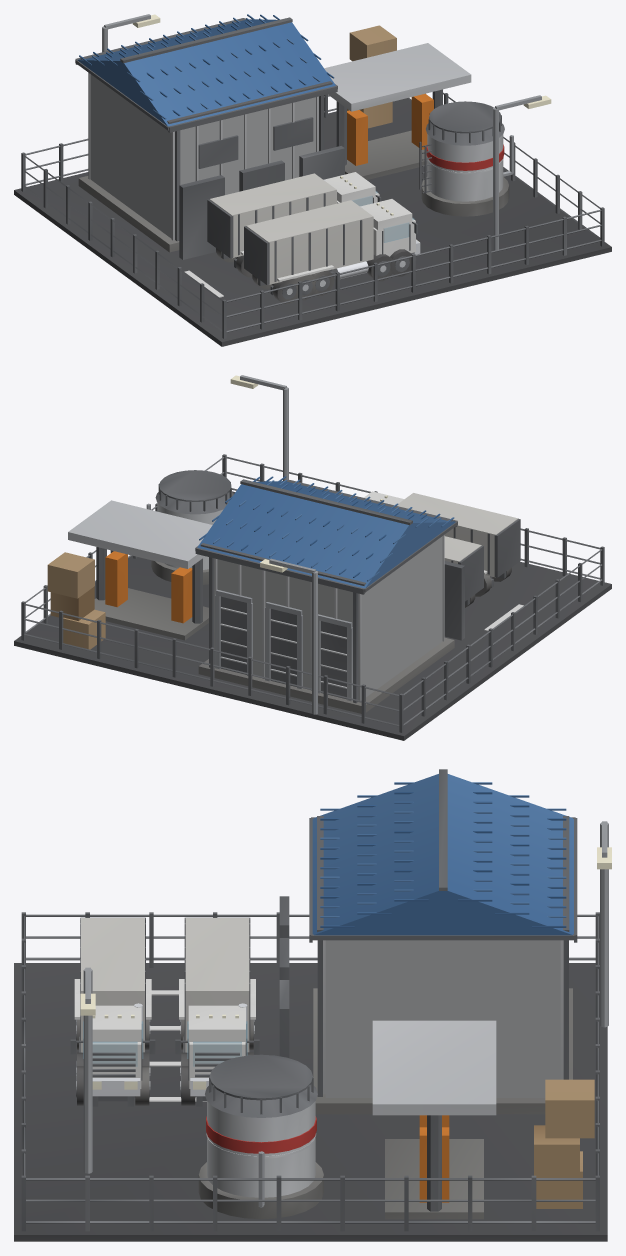
The model's file is Fleet_P2.fbx.
The picture shows the model from 3 angles, top to bottom: view 1: azimuth 30°, elevation 25°; view 2: azimuth 150°, elevation 25°; view 3: azimuth 270°, elevation 25°; orthographic projection. The views are drawn at different scales.
Parts seen in each view (by area): view 1: Fleet.Garage, Fleet.Yard, Fleet.Parked1, Fleet.FuelIsland, Fleet.Fence, Fleet.FuelTank, Fleet.Parked0, Fleet.Doors, Fleet.Crates, Fleet.Lamp1, Fleet.Lamp0; view 2: Fleet.Garage, Fleet.Yard, Fleet.FuelIsland, Fleet.Fence, Fleet.Parked1, Fleet.Crates, Fleet.FuelTank, Fleet.Doors, Fleet.Parked0, Fleet.Lamp0, Fleet.Lamp1; view 3: Fleet.Garage, Fleet.Yard, Fleet.FuelIsland, Fleet.FuelTank, Fleet.Fence, Fleet.Parked1, Fleet.Parked0, Fleet.Crates, Fleet.Lamp1, Fleet.Lamp0, Fleet.Doors, Fleet.Bays.
Part boxes in pixels (box(x1,y1,x2,y2)): Fleet.Garage: box(75, 14, 337, 252); Fleet.Yard: box(14, 98, 611, 346); Fleet.Parked1: box(244, 199, 420, 303); Fleet.FuelIsland: box(324, 43, 471, 179); Fleet.Fence: box(21, 92, 604, 338); Fleet.FuelTank: box(419, 101, 513, 216); Fleet.Parked0: box(207, 172, 381, 277); Fleet.Doors: box(179, 146, 344, 259); Fleet.Crates: box(347, 25, 396, 128); Fleet.Lamp1: box(493, 95, 551, 250); Fleet.Lamp0: box(102, 14, 160, 52); Fleet.Garage: box(195, 476, 457, 713); Fleet.Yard: box(14, 491, 611, 740); Fleet.FuelIsland: box(68, 500, 212, 640); Fleet.Fence: box(21, 454, 604, 732); Fleet.Parked1: box(364, 491, 520, 596); Fleet.Crates: box(47, 552, 105, 649); Fleet.FuelTank: box(146, 470, 233, 584); Fleet.Doors: box(444, 561, 464, 640); Fleet.Parked0: box(444, 536, 483, 607); Fleet.Lamp0: box(260, 558, 317, 714); Fleet.Lamp1: box(230, 375, 288, 480); Fleet.Garage: box(309, 769, 577, 1114); Fleet.Yard: box(14, 963, 607, 1241); Fleet.FuelIsland: box(372, 1020, 496, 1219); Fleet.FuelTank: box(198, 1054, 323, 1219); Fleet.Fence: box(21, 912, 599, 1231); Fleet.Parked1: box(70, 917, 155, 1106); Fleet.Parked0: box(175, 917, 259, 1106); Fleet.Crates: box(534, 1079, 594, 1208); Fleet.Lamp1: box(80, 967, 95, 1173); Fleet.Lamp0: box(597, 821, 611, 1027); Fleet.Doors: box(279, 896, 289, 1057); Fleet.Bays: box(149, 990, 206, 1101).
Bounding box in the file's own units: 2600 × 1050 × 2418.
